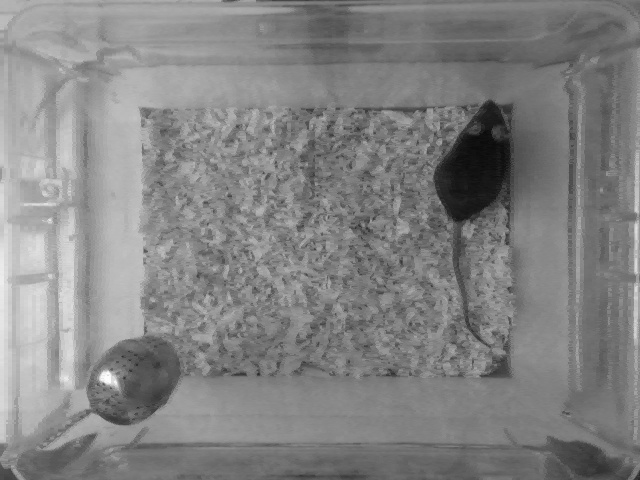mice: (431, 96, 508, 347)
